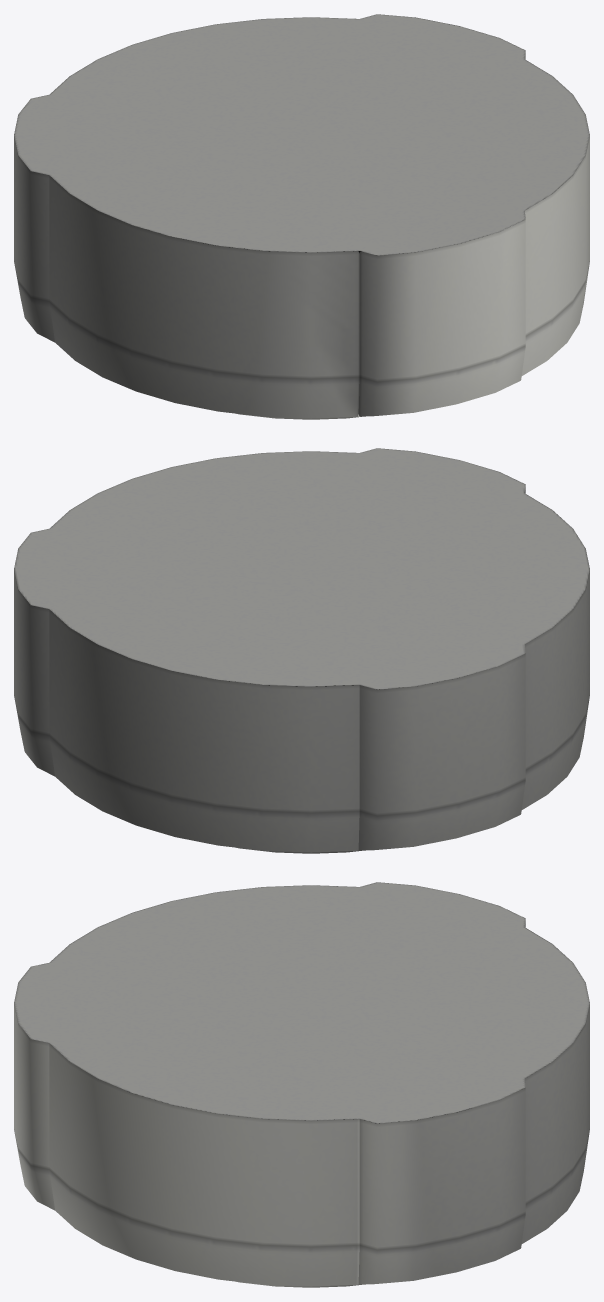
File: qiuji001.FBX
3 renders of one model, top to bottom at view 1: azimuth 30°, elevation 25°; view 2: azimuth 150°, elevation 25°; view 3: azimuth 270°, elevation 25°, orthographic.
Parts seen in each view (by area): view 1: qiuji001_dizuo; view 2: qiuji001_dizuo; view 3: qiuji001_dizuo.
Part boxes in pixels (x1,y1,x2,y2): qiuji001_dizuo: [14, 14, 589, 419]; qiuji001_dizuo: [14, 448, 589, 853]; qiuji001_dizuo: [14, 882, 589, 1287].
Size of the model in its own units: 15.38 by 5.83 by 15.5.
